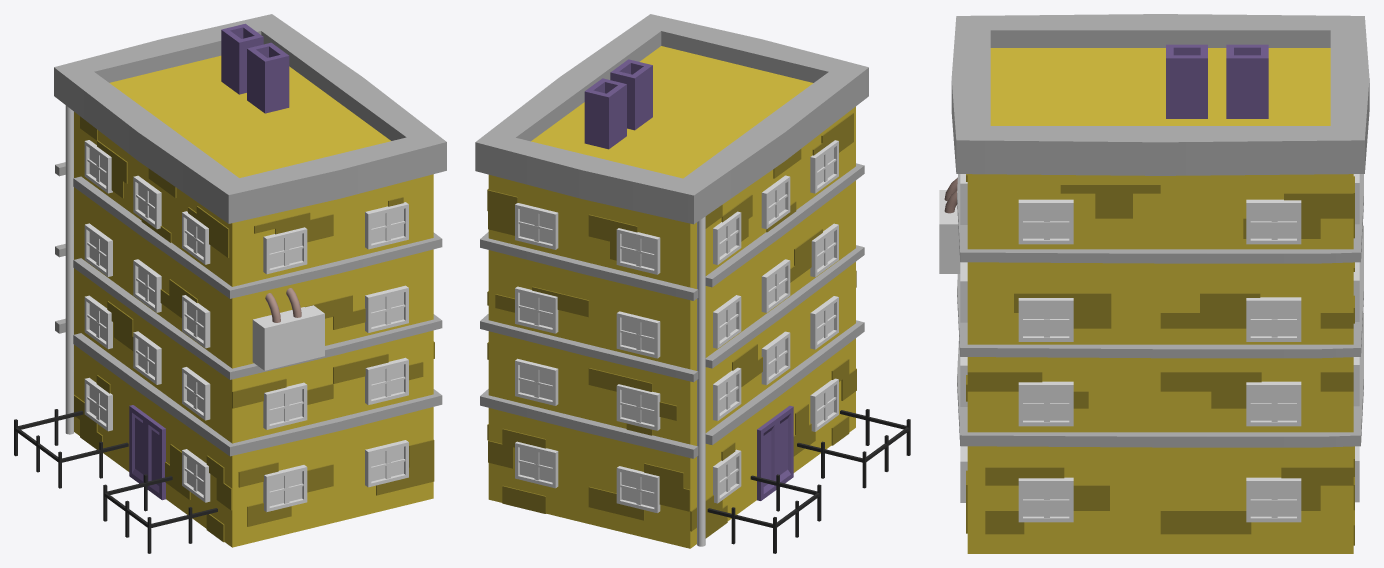
Rendered from batiment 6.FBX.
3 renders of one model, left to right at view 1: azimuth 30°, elevation 25°; view 2: azimuth 150°, elevation 25°; view 3: azimuth 270°, elevation 25°, orthographic. The views are drawn at different scales.
Parts seen in each view (by area): view 1: batiment 2, Box004, Cylinder003; view 2: batiment 2, Cylinder003; view 3: batiment 2, Box004.
Boxes of the visible parts, x1,y1,x2,y2 form: batiment 2: (14,14,446,553); Box004: (252,305,324,370); Cylinder003: (65,105,73,434); batiment 2: (475,14,910,553); Cylinder003: (697,216,705,546); batiment 2: (944,14,1369,553); Box004: (939,190,960,273).
Bounding box in the file's own units: 1037 × 1387 × 1171.
